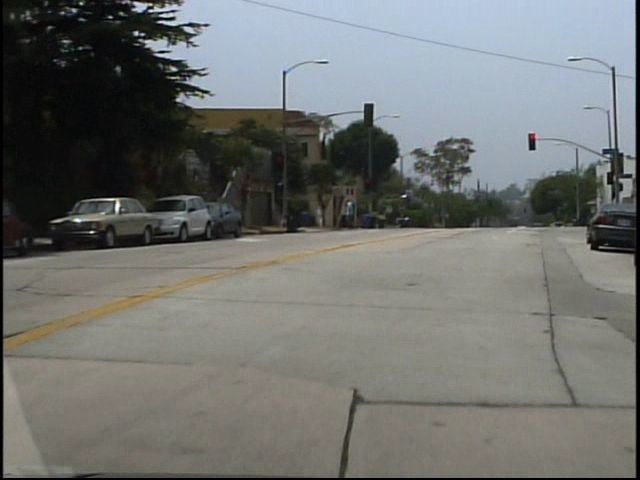person: (350, 199, 362, 232), (322, 204, 330, 231)
